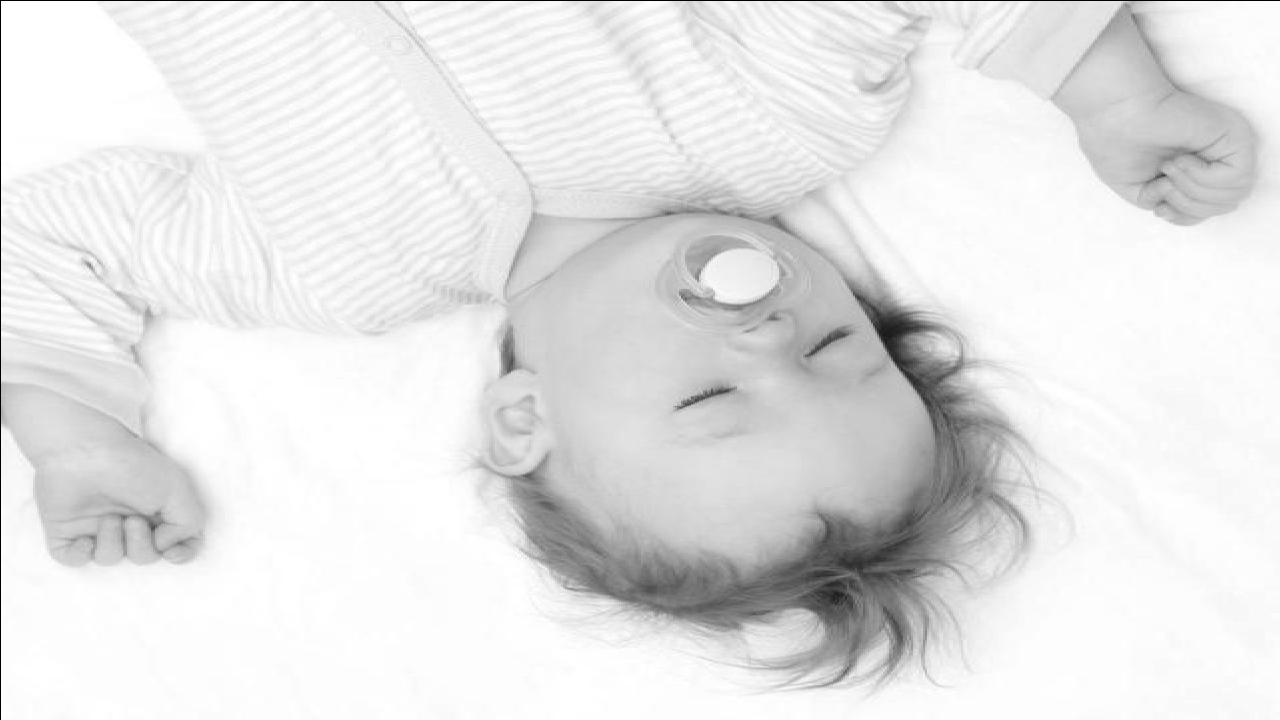hand: (1082, 97, 1262, 223), (26, 446, 205, 562)
